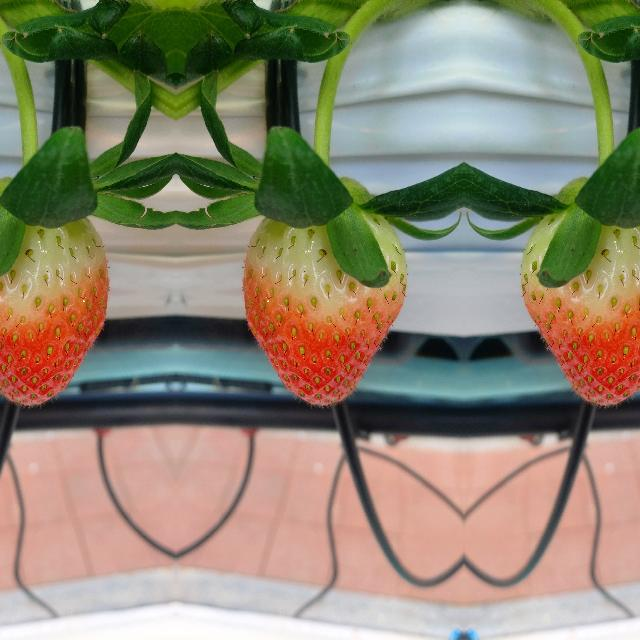Health_75: (240, 208, 408, 408), (518, 207, 640, 408), (0, 207, 109, 408)
